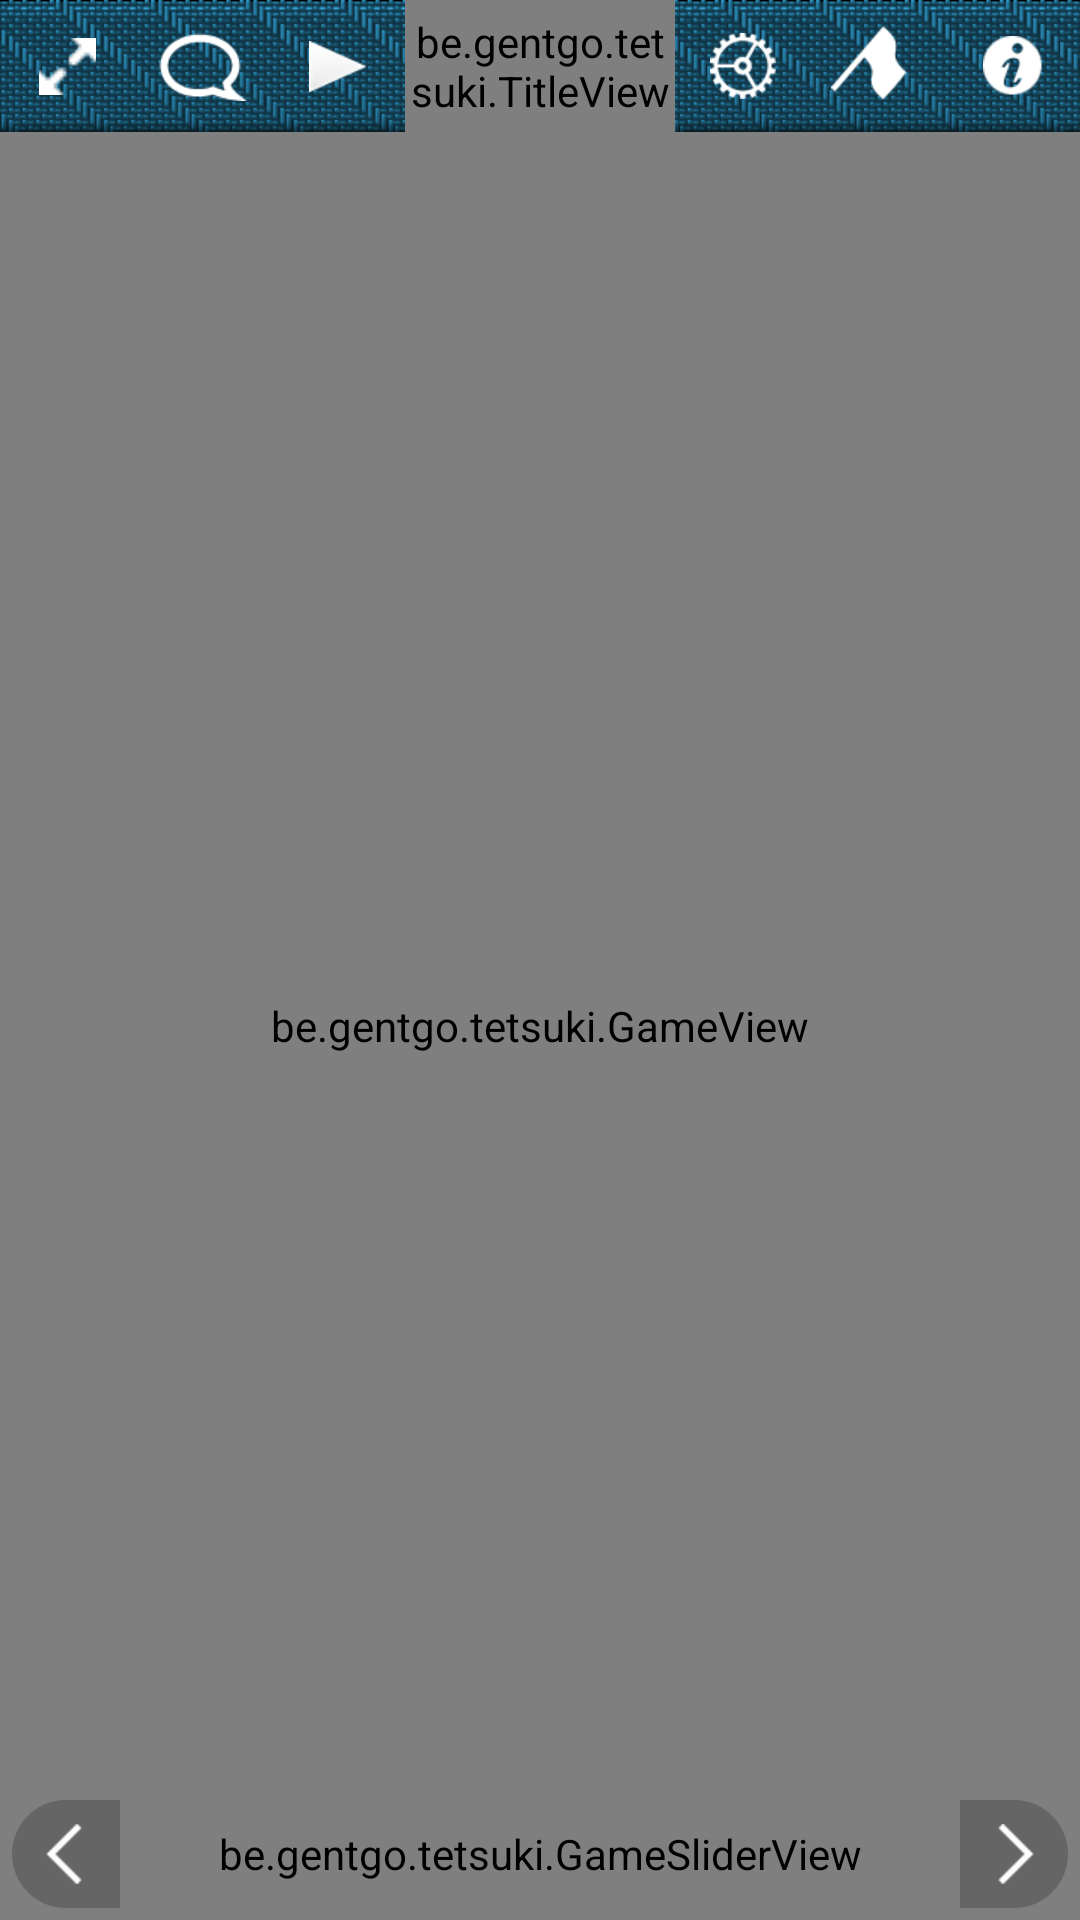

Where to tap for icons on this 1080 x 1920 app screen, as point (x, y):
chat: point (202, 66)
flag: point (877, 66)
gear: point (742, 66)
left: point (66, 1854)
play: point (337, 66)
right: point (1014, 1854)
zoom in: point (67, 66)
